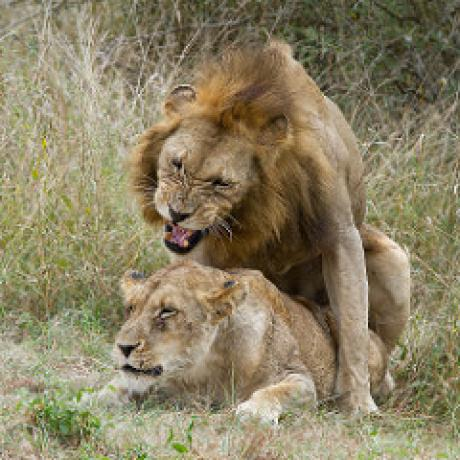Lion: (134, 33, 409, 336), (101, 261, 386, 419)
